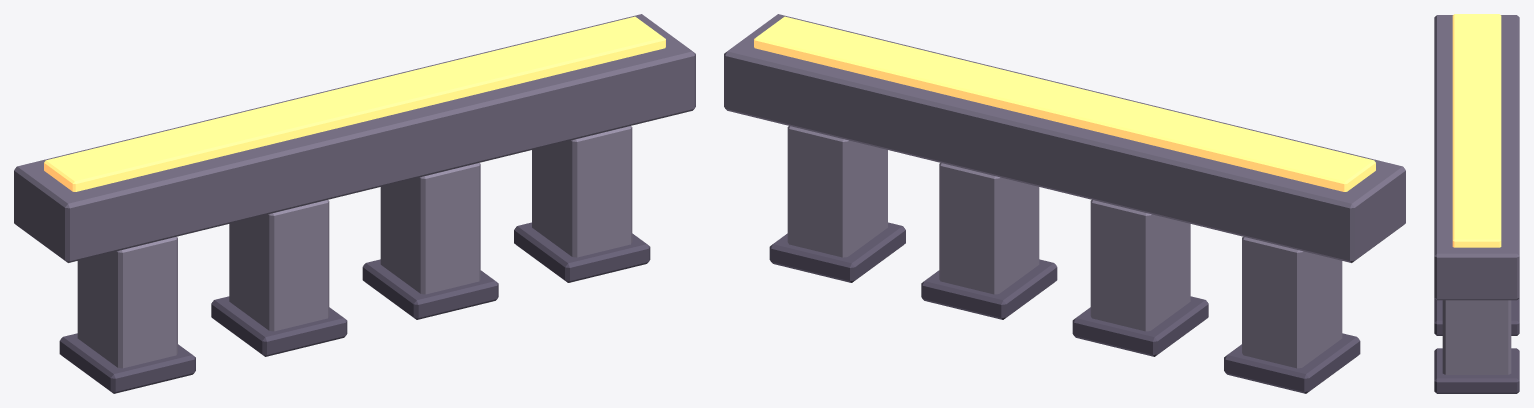
Rendered from ember_lava_aqueduct.glb.
The picture shows the model from 3 angles, left to right: view 1: azimuth 30°, elevation 25°; view 2: azimuth 150°, elevation 25°; view 3: azimuth 270°, elevation 25°; orthographic projection. The views are drawn at different scales.
Parts seen in each view (by area): view 1: ember_lava_aqueduct.001; view 2: ember_lava_aqueduct.001; view 3: ember_lava_aqueduct.001.
Part boxes in pixels (x1=…): ember_lava_aqueduct.001: x1=14, y1=14, x2=695, y2=393; ember_lava_aqueduct.001: x1=724, y1=14, x2=1405, y2=393; ember_lava_aqueduct.001: x1=1434, y1=14, x2=1519, y2=393.
Bounding box in the file's own units: 10 × 3.2 × 1.5.
